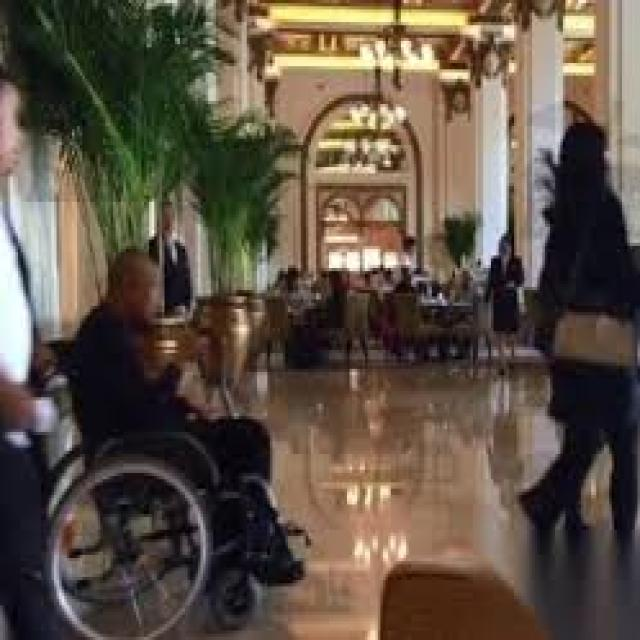wheelchairs: (44, 340, 300, 637)
